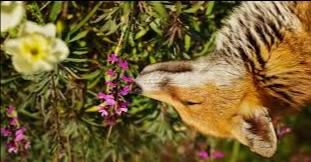Non_Gorille: (108, 2, 306, 158)
